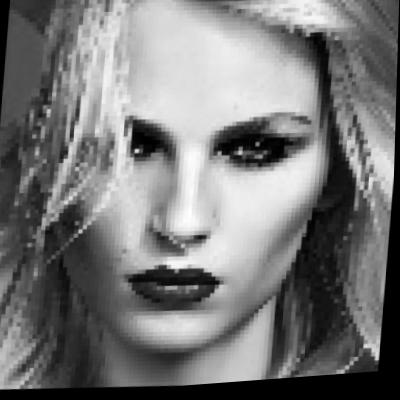angry: (53, 2, 328, 356)
